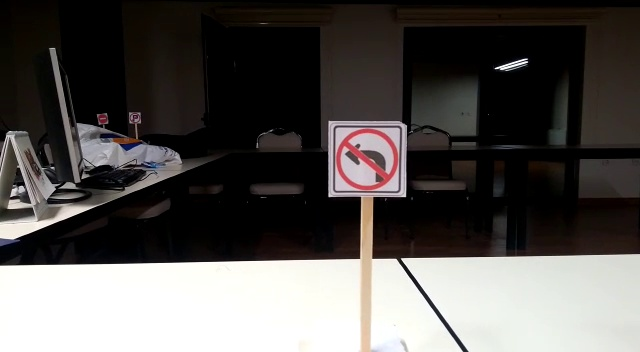sola_donulmez: (330, 123, 404, 193)
